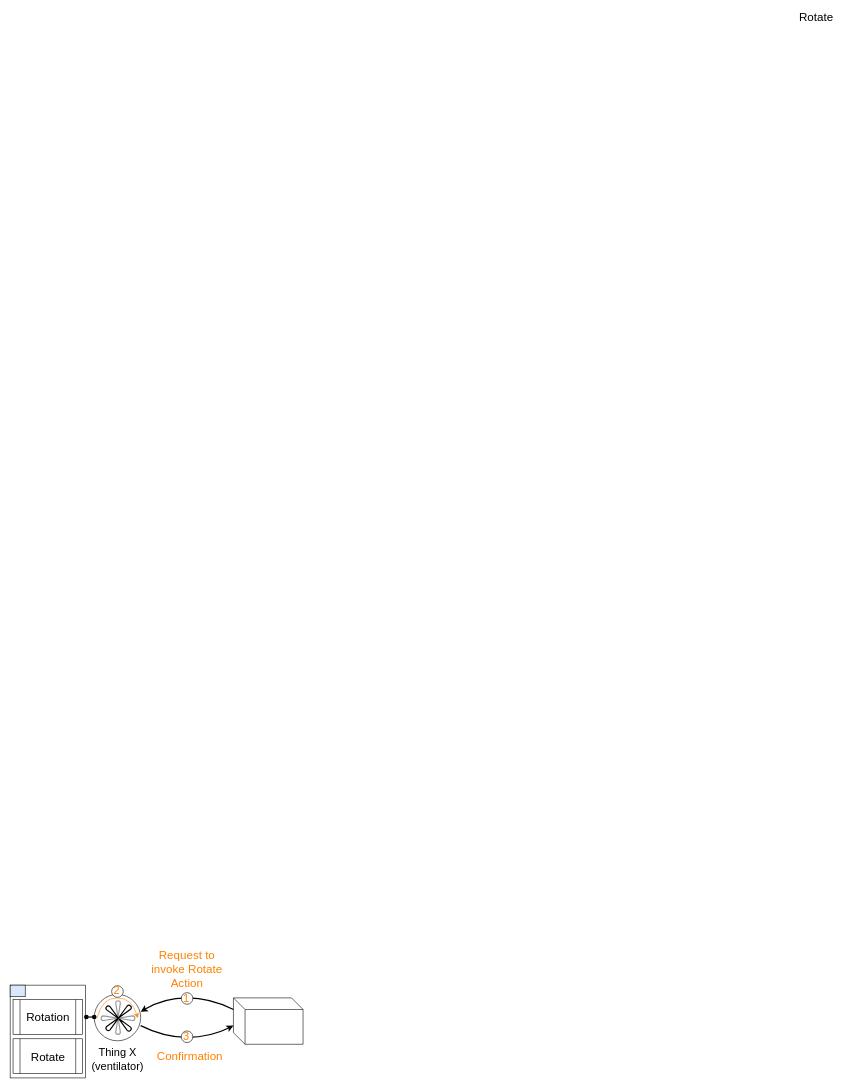
Image size: 843x1088. Some labels were removed from this diagram. The shapes that lost their labels are listed below. From the top down, each one's centre as x and y in pixels, then its label:
At (x=17, y=991): "TD".
At (x=268, y=1020): "Thing Y".
